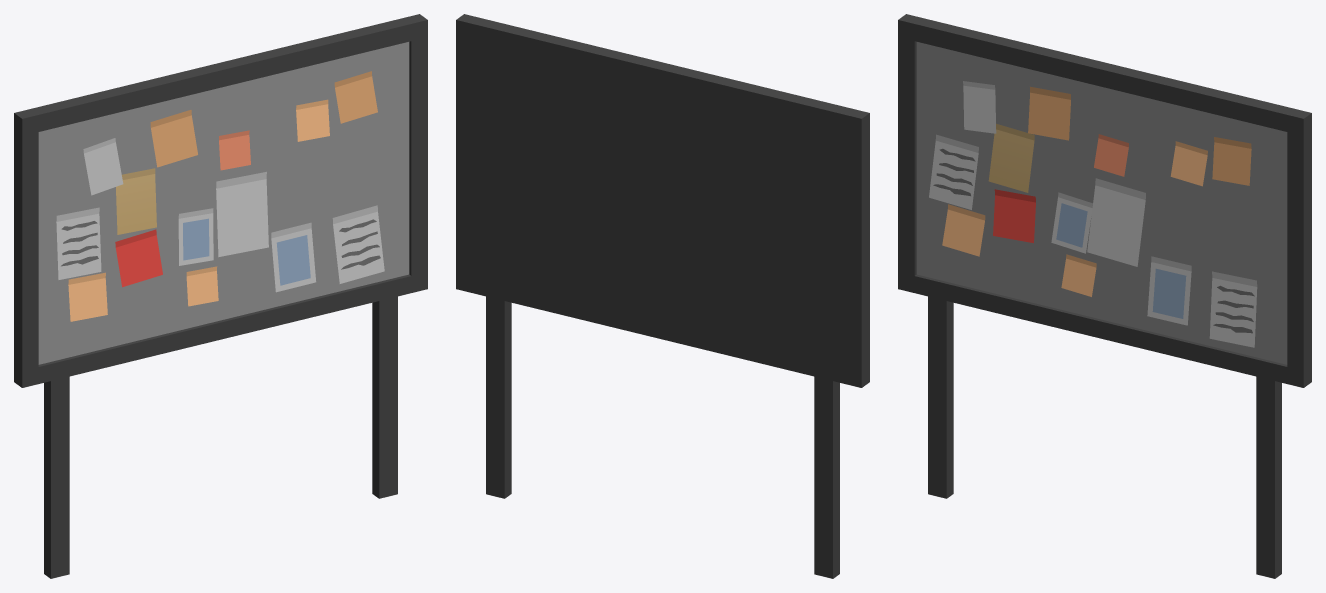
3 views of the same model, side by side, from view 1: azimuth 30°, elevation 25°; view 2: azimuth 150°, elevation 25°; view 3: azimuth 330°, elevation 25° (orthographic).
Visible parts, largest first — view 1: Ad_02; view 2: Ad_02; view 3: Ad_02.
Boxes of the visible parts, x1,y1,x2,y2 form: Ad_02: (14,14,427,578); Ad_02: (456,14,869,578); Ad_02: (898,14,1311,578).
Size of the model in its own units: 163 by 180 by 8.15.
